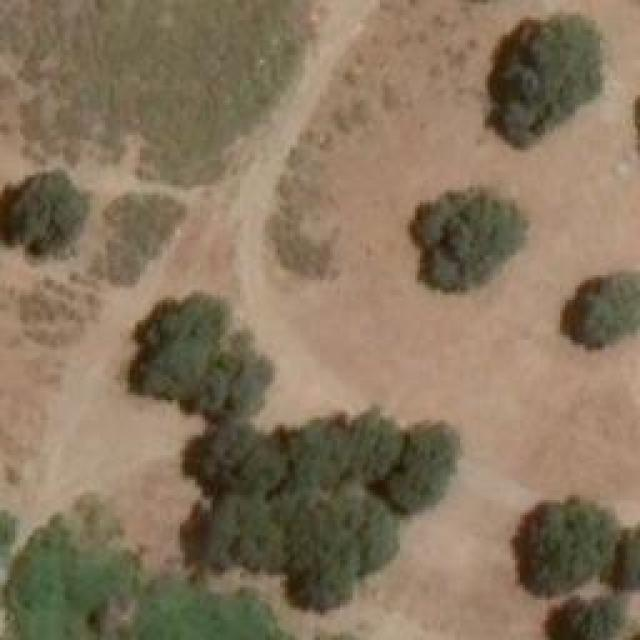Tree: (128, 293, 261, 416), (487, 12, 605, 140), (410, 190, 525, 288), (515, 500, 610, 595), (0, 173, 85, 263), (380, 423, 460, 516), (233, 493, 313, 568), (283, 530, 358, 608), (285, 415, 355, 495), (190, 425, 273, 490), (575, 275, 640, 335), (550, 595, 625, 640), (358, 408, 398, 481), (610, 525, 640, 588)
